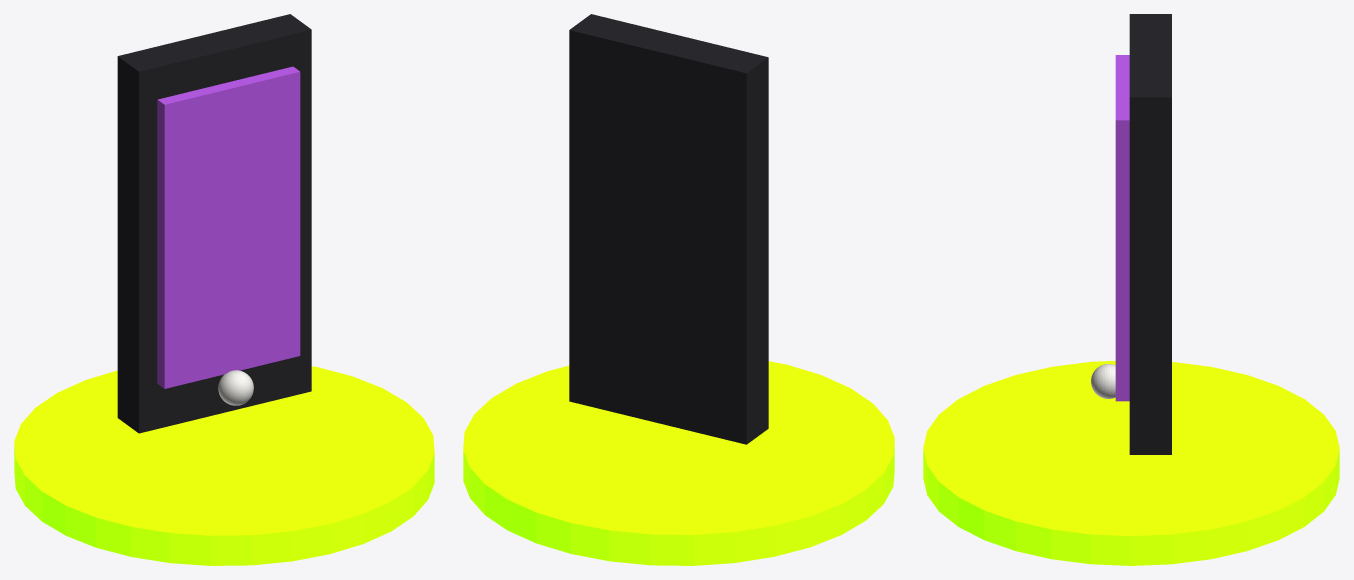
File: tech_smartphone.glb
The picture shows the model from 3 angles, left to right: view 1: azimuth 30°, elevation 25°; view 2: azimuth 150°, elevation 25°; view 3: azimuth 270°, elevation 25°; orthographic projection. The views are drawn at different scales.
Parts seen in each view (by area): view 1: 08_01_Popular_Tech_Smartphone_ROOT_base, 08_01_Popular_Tech_Smartphone_part_02, 08_01_Popular_Tech_Smartphone_part_01, 08_01_Popular_Tech_Smartphone_part_03; view 2: 08_01_Popular_Tech_Smartphone_part_01, 08_01_Popular_Tech_Smartphone_ROOT_base; view 3: 08_01_Popular_Tech_Smartphone_ROOT_base, 08_01_Popular_Tech_Smartphone_part_01, 08_01_Popular_Tech_Smartphone_part_02, 08_01_Popular_Tech_Smartphone_part_03.
Boxes of the visible parts, x1,y1,x2,y2 form: 08_01_Popular_Tech_Smartphone_ROOT_base: (14, 366, 434, 565); 08_01_Popular_Tech_Smartphone_part_02: (157, 66, 300, 388); 08_01_Popular_Tech_Smartphone_part_01: (117, 14, 311, 433); 08_01_Popular_Tech_Smartphone_part_03: (218, 370, 253, 405); 08_01_Popular_Tech_Smartphone_part_01: (569, 14, 768, 444); 08_01_Popular_Tech_Smartphone_ROOT_base: (463, 361, 894, 565); 08_01_Popular_Tech_Smartphone_ROOT_base: (923, 360, 1339, 565); 08_01_Popular_Tech_Smartphone_part_01: (1129, 14, 1171, 454); 08_01_Popular_Tech_Smartphone_part_02: (1115, 55, 1129, 401); 08_01_Popular_Tech_Smartphone_part_03: (1091, 364, 1115, 398).
Size of the model in its own units: 0.76 by 0.85 by 0.76.
